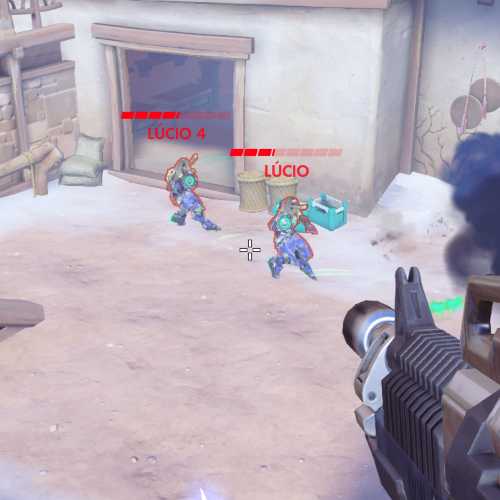hpbar: (229, 148, 343, 157), (120, 111, 231, 120)
